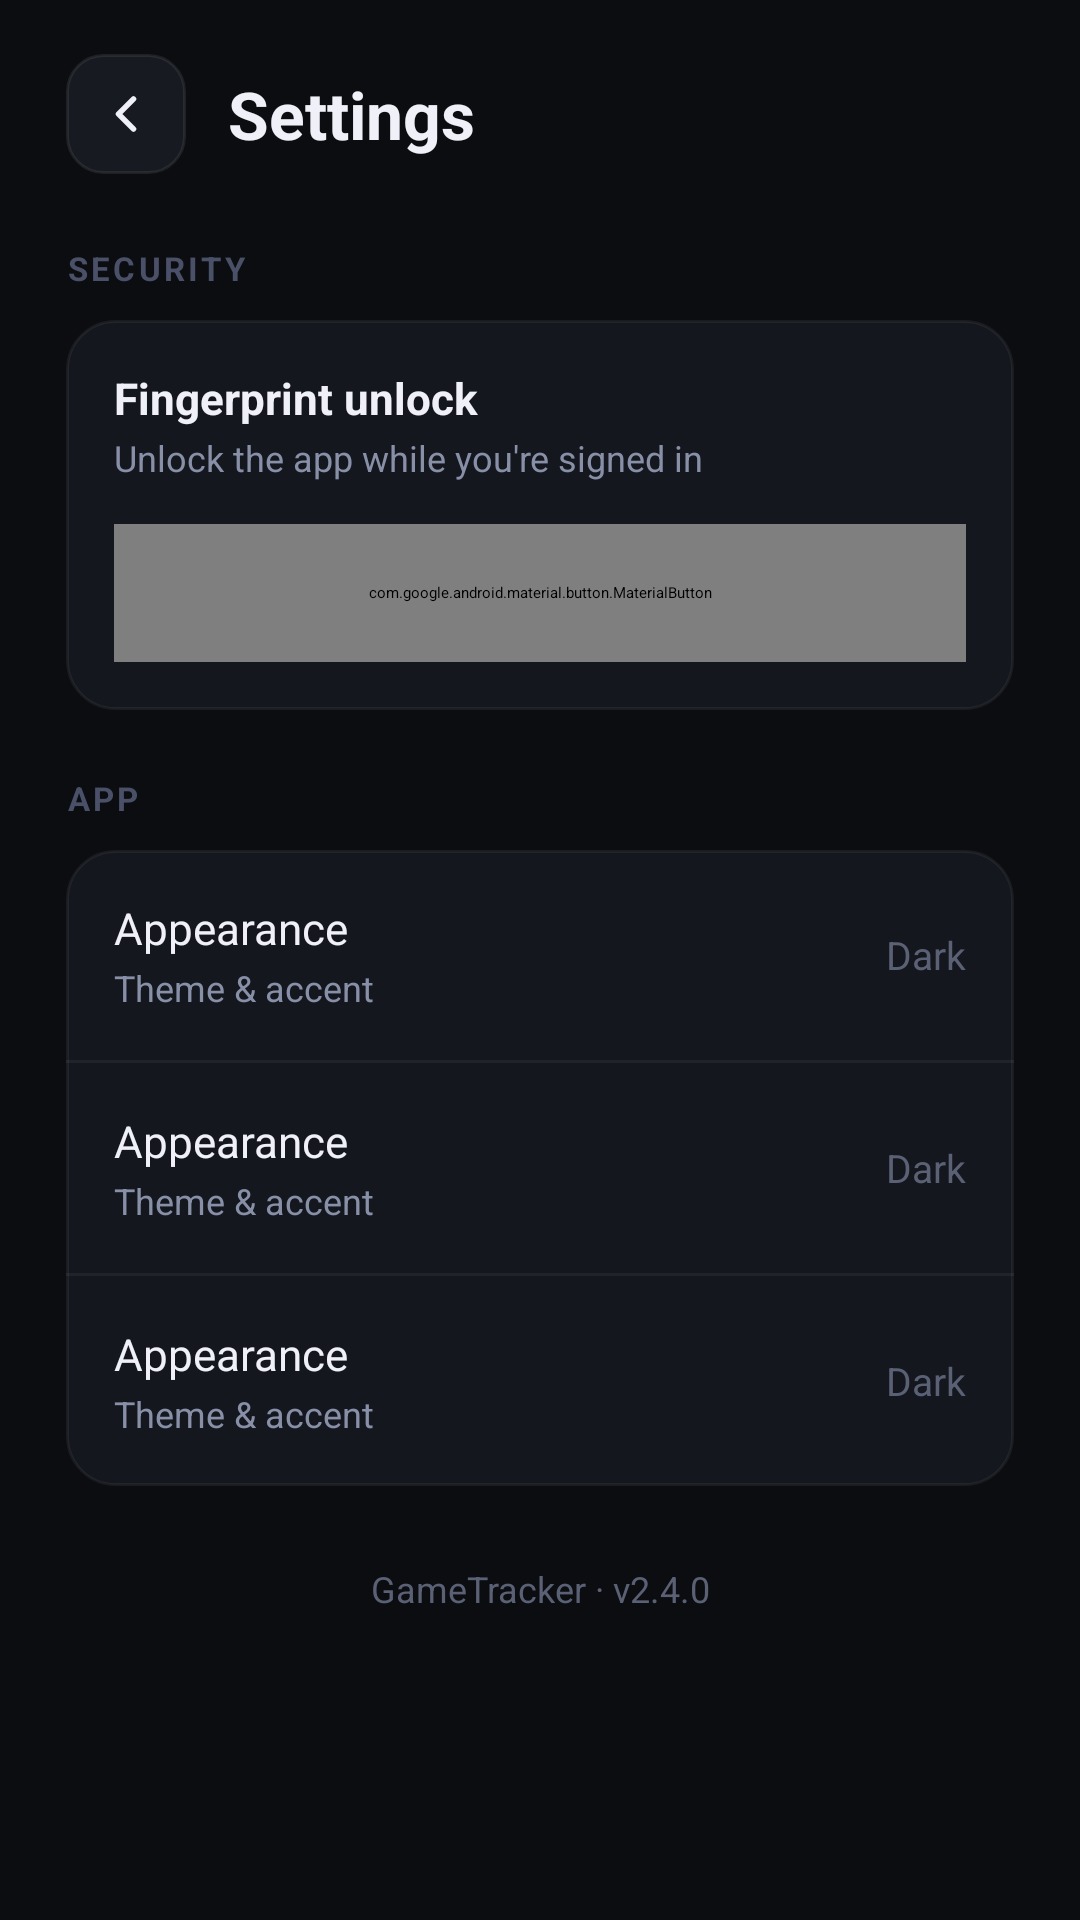

Named icons in this screenshot (1080x1920) and their bounding boxes, (x1, y1, x2, y2):
Back: (115, 96, 137, 132)
